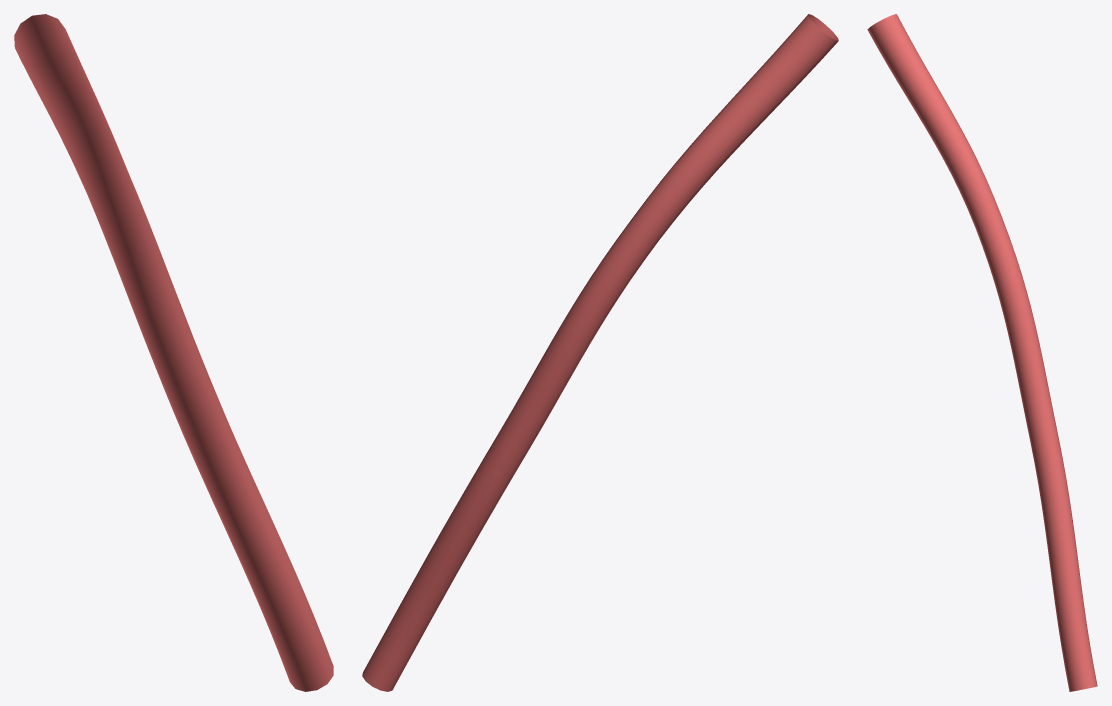
Rendered from Deep_brachial_artery.l_BezierCurve.164.glb.
3 views of the same model, side by side, from view 1: azimuth 30°, elevation 25°; view 2: azimuth 150°, elevation 25°; view 3: azimuth 270°, elevation 25° (orthographic). The views are drawn at different scales.
Visible parts, largest first — view 1: Deep_brachial_artery.l_BezierCurve.164; view 2: Deep_brachial_artery.l_BezierCurve.164; view 3: Deep_brachial_artery.l_BezierCurve.164.
Part boxes in pixels (left/top/right/bottom): Deep_brachial_artery.l_BezierCurve.164: left=14, top=14, right=333, bottom=691; Deep_brachial_artery.l_BezierCurve.164: left=362, top=14, right=838, bottom=691; Deep_brachial_artery.l_BezierCurve.164: left=867, top=14, right=1097, bottom=691.
Size of the model in its own units: 0.0351 by 0.063 by 0.0239.
